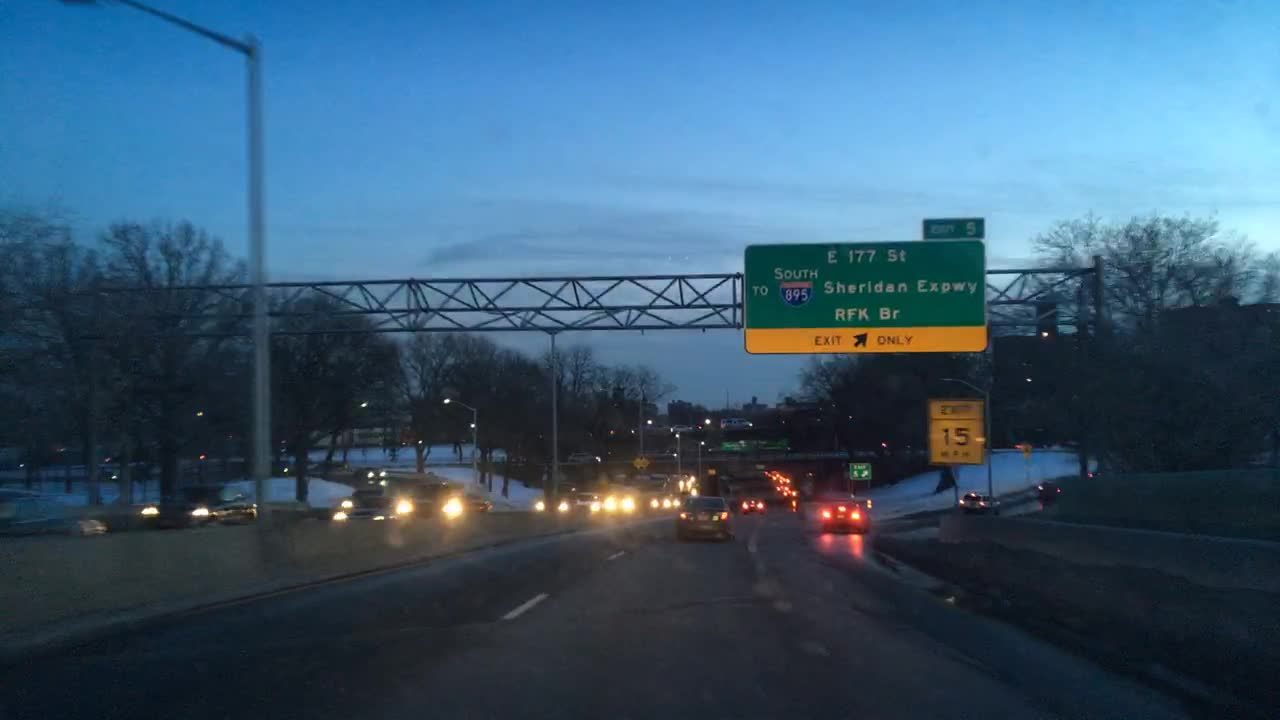car: (142, 477, 251, 529), (0, 486, 108, 538), (675, 494, 736, 541), (398, 477, 465, 517), (818, 499, 873, 533), (215, 502, 262, 525), (958, 490, 1001, 513), (605, 487, 643, 512), (463, 490, 493, 515), (536, 494, 573, 513), (648, 493, 679, 512), (580, 490, 606, 512), (1038, 477, 1063, 499), (738, 496, 771, 512), (721, 416, 753, 430), (1011, 438, 1034, 452), (673, 423, 696, 434)
traffic sign: (742, 239, 988, 355), (929, 396, 989, 466), (921, 217, 985, 243), (719, 438, 788, 454), (848, 459, 873, 479), (632, 454, 651, 468)
truck: (330, 465, 440, 520)
